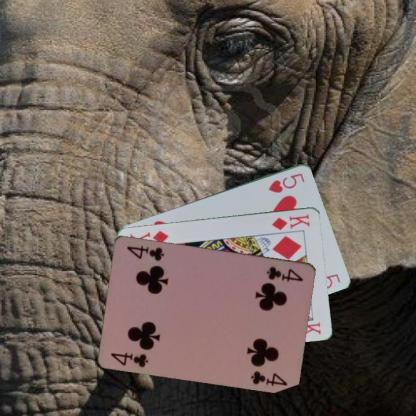4c: (108, 350, 150, 368), (264, 264, 305, 282)
5h: (266, 171, 306, 194)
Kd: (270, 212, 312, 231)
